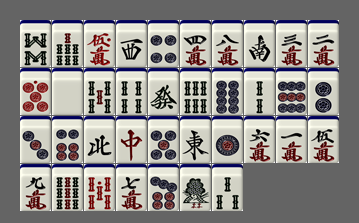0m: (84, 20, 115, 67)
0p: (20, 68, 51, 115)
0s: (84, 164, 115, 211)
1m: (276, 116, 307, 163)
1p: (212, 116, 243, 163)
1s: (180, 164, 211, 211)
1z: (180, 116, 211, 163)
2m: (308, 20, 339, 67)
2p: (308, 68, 339, 115)
2s: (244, 68, 275, 115)
2z: (244, 20, 275, 67)
3m: (276, 20, 307, 67)
3p: (20, 116, 51, 163)
3s: (212, 164, 243, 211)
3z: (116, 20, 147, 67)
4m: (180, 20, 211, 67)
4p: (148, 20, 179, 67)
4s: (116, 68, 147, 115)
4z: (84, 116, 115, 163)
5m: (308, 116, 339, 163)
5p: (148, 116, 179, 163)
5s: (84, 68, 115, 115)
5z: (52, 68, 83, 115)
6m: (244, 116, 275, 163)
6p: (52, 116, 83, 163)
6s: (180, 68, 211, 115)
6z: (148, 68, 179, 115)
7m: (116, 164, 147, 211)
7p: (148, 164, 179, 211)
7s: (52, 20, 83, 67)
7z: (116, 116, 147, 163)
8m: (212, 20, 243, 67)
8p: (212, 68, 243, 115)
8s: (20, 20, 51, 67)
9m: (20, 164, 51, 211)
9p: (276, 68, 307, 115)
9s: (52, 164, 83, 211)
